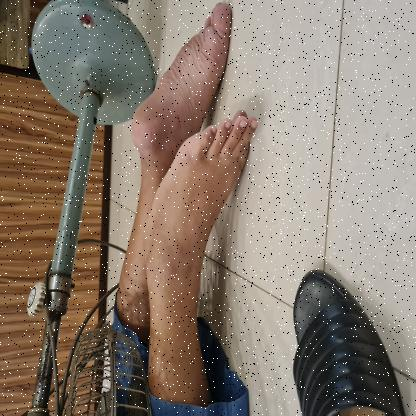leg: (116, 0, 236, 326), (137, 103, 263, 404)
